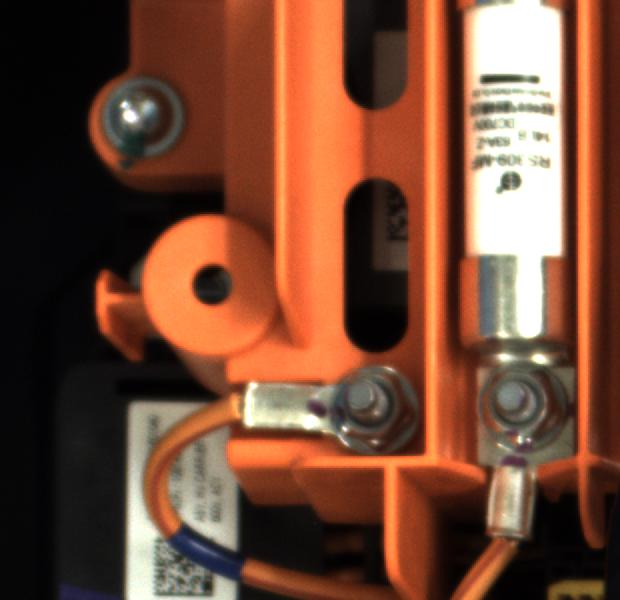screw_m: (85, 67, 196, 165)
